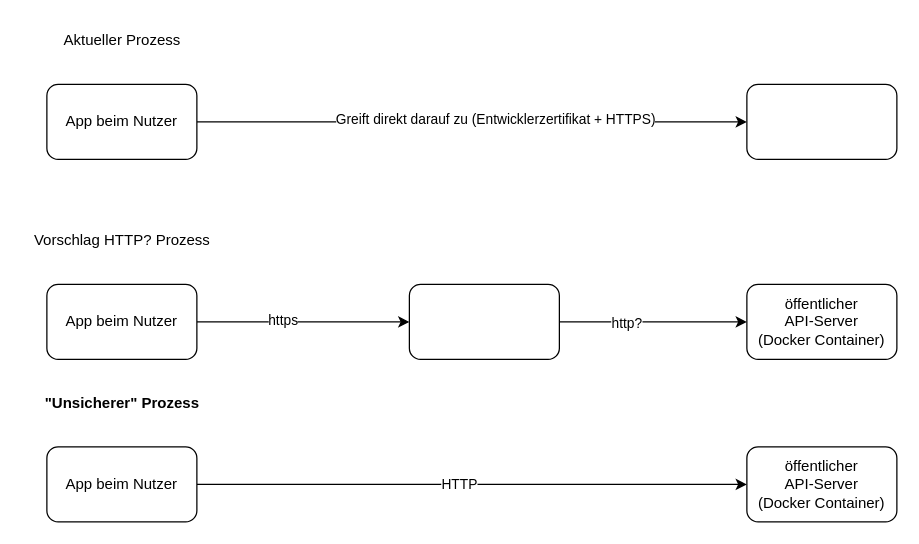
Image size: 919x544. Some labels were removed from this diagram. Here are the shapes that lost their labels. From the top down, the box of each, then its label:
(746, 83, 897, 159): lokaler API-Server (Docker Container)
(408, 283, 559, 359): Cloudflare (HTTPS zu HTTP)
